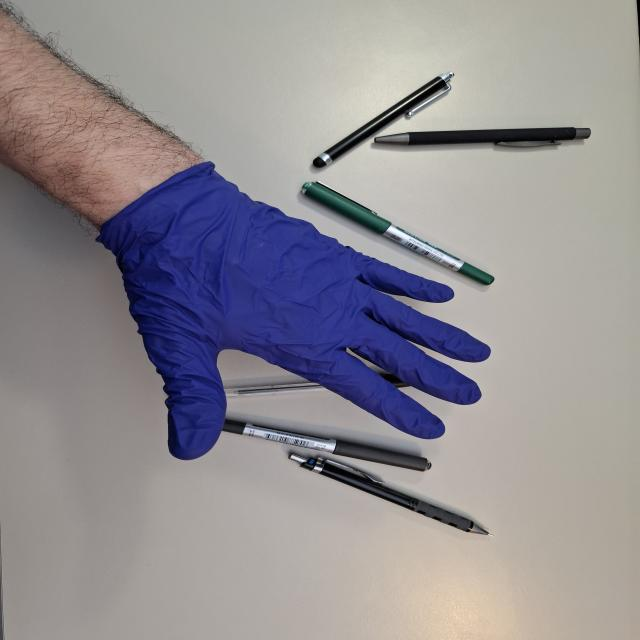glove_on: (84, 160, 494, 465)
